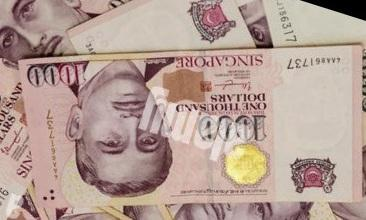1000SingaporeDollar: (28, 55, 360, 200)
